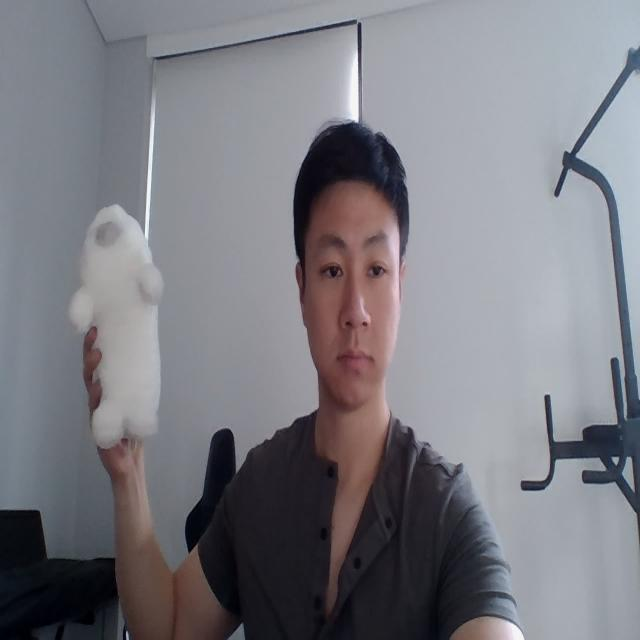seal_bb: (69, 205, 167, 450)
